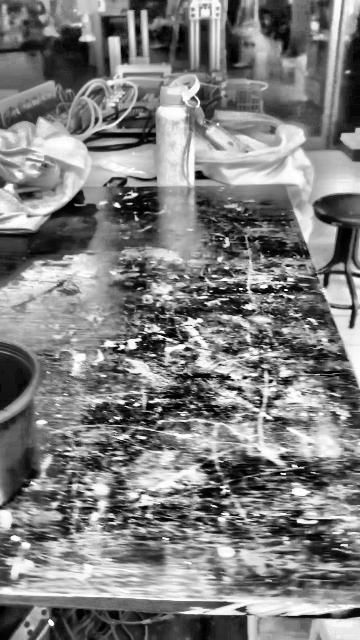pot: (0, 341, 39, 507)
